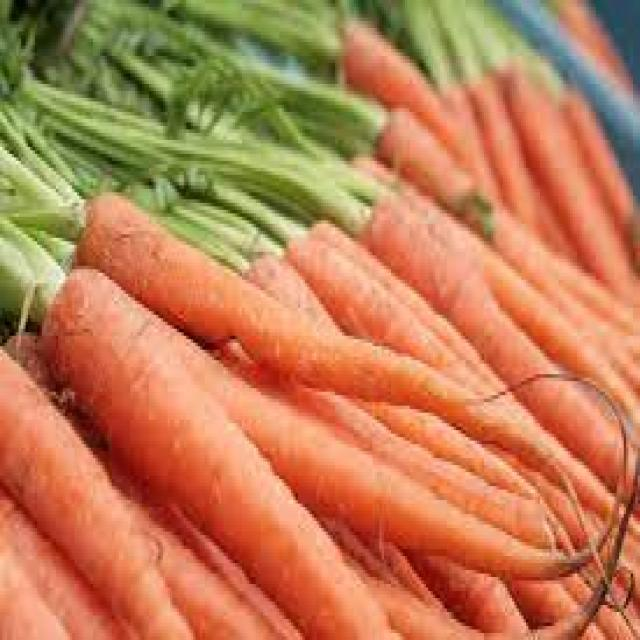Fresh_Carrot: (3, 241, 416, 640), (75, 140, 487, 432), (501, 54, 626, 298)
